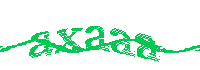a: (135, 30, 160, 62), (28, 29, 53, 58), (109, 26, 133, 56), (85, 23, 107, 53)
x: (57, 25, 82, 54)
